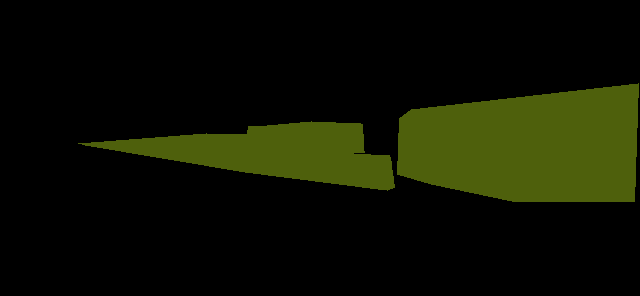Train: (397, 83, 638, 202), (78, 121, 394, 190)
